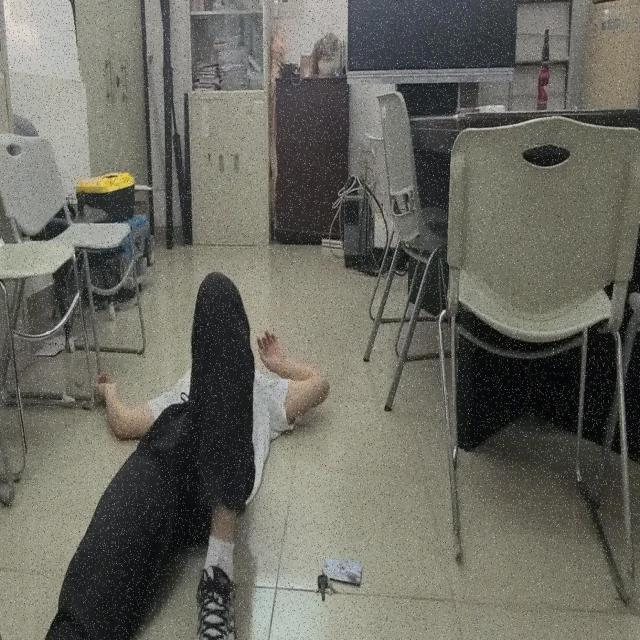fall: (44, 270, 332, 640)
